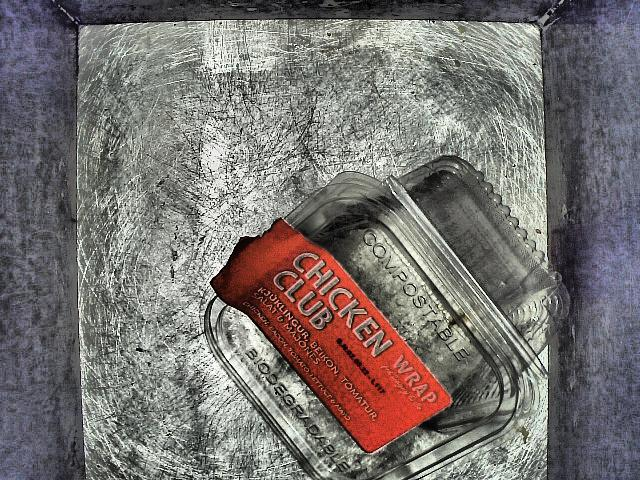Plastic: (200, 144, 553, 480)
